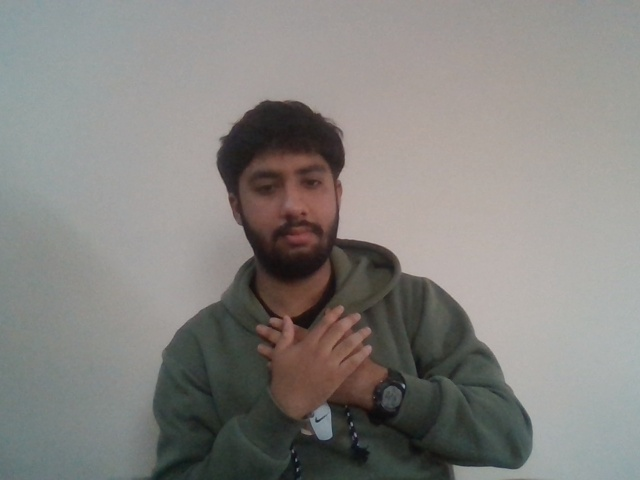Please: (247, 307, 393, 406)
